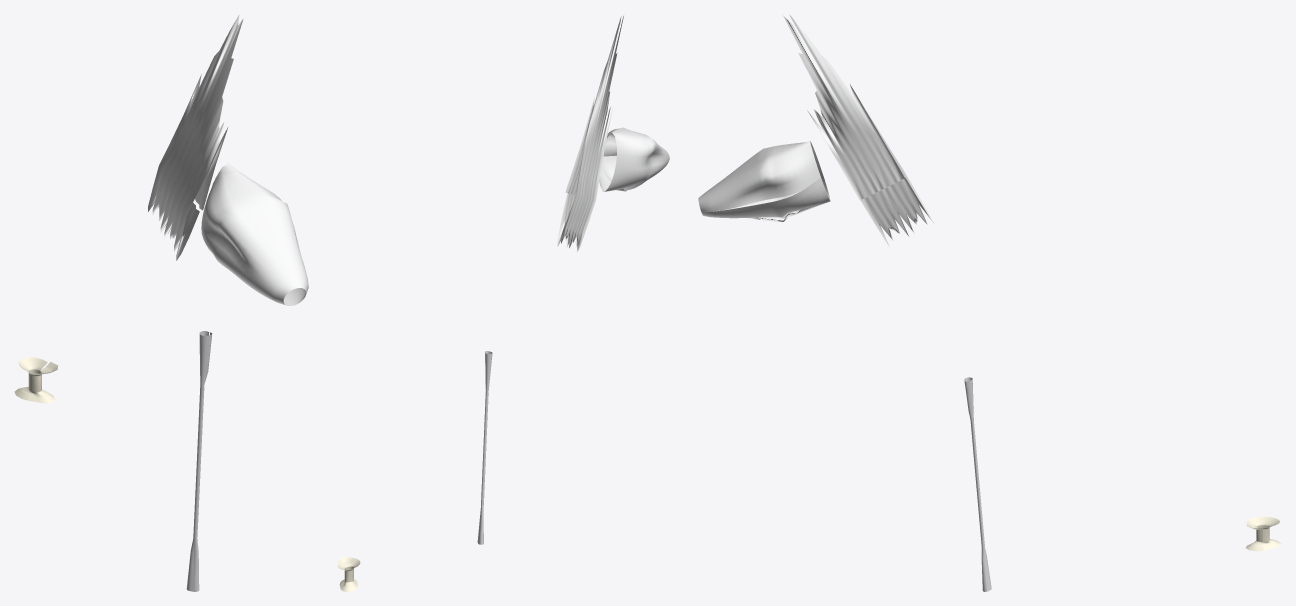
The model's file is skeletal.glb.
3 views of the same model, side by side, from view 1: azimuth 30°, elevation 25°; view 2: azimuth 150°, elevation 25°; view 3: azimuth 270°, elevation 25° (orthographic). The views are drawn at different scales.
Parts seen in each view (by area): view 1: Mesh_Camelid_Cranium, Mesh_Camelid_Cervicales, Mesh_Camelid_Metacarpus, Mesh_Camelid_OssaDigitorum; view 2: Mesh_Camelid_Cervicales, Mesh_Camelid_Cranium, Mesh_Camelid_Metacarpus, Mesh_Camelid_OssaDigitorum; view 3: Mesh_Camelid_Cervicales, Mesh_Camelid_Cranium, Mesh_Camelid_Metacarpus, Mesh_Camelid_OssaDigitorum.
Boxes of the visible parts, left/top/right/bottom form: Mesh_Camelid_Cranium: left=201, top=163, right=308, bottom=305; Mesh_Camelid_Cervicales: left=148, top=15, right=243, bottom=260; Mesh_Camelid_Metacarpus: left=186, top=331, right=212, bottom=591; Mesh_Camelid_OssaDigitorum: left=14, top=357, right=58, bottom=403; Mesh_Camelid_Cervicales: left=557, top=16, right=623, bottom=251; Mesh_Camelid_Cranium: left=599, top=127, right=669, bottom=191; Mesh_Camelid_Metacarpus: left=477, top=351, right=492, bottom=544; Mesh_Camelid_OssaDigitorum: left=337, top=557, right=360, bottom=591; Mesh_Camelid_Cervicales: left=783, top=14, right=934, bottom=246; Mesh_Camelid_Cranium: left=698, top=141, right=830, bottom=221; Mesh_Camelid_Metacarpus: left=964, top=377, right=991, bottom=591; Mesh_Camelid_OssaDigitorum: left=1246, top=516, right=1281, bottom=551.
Size of the model in its own units: 0.2817 by 1.27 by 1.22.
